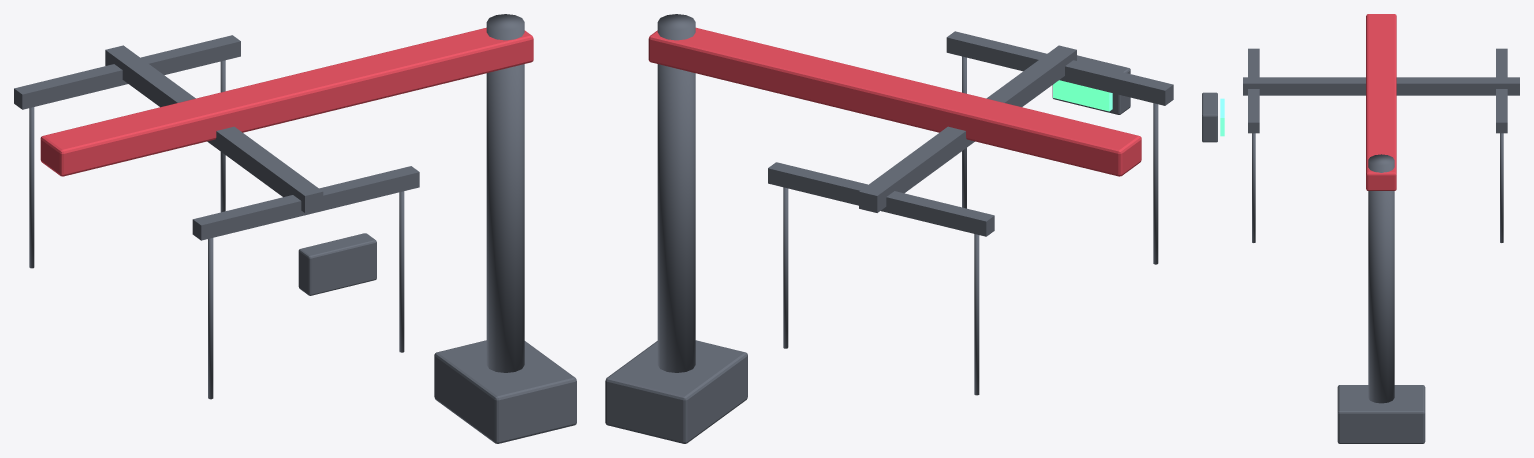
The model's file is pit_boom.glb.
3 views of the same model, side by side, from view 1: azimuth 30°, elevation 25°; view 2: azimuth 150°, elevation 25°; view 3: azimuth 270°, elevation 25° (orthographic). The views are drawn at different scales.
Visible parts, largest first — view 1: BoomArm, BoomMast, BoomPlinth, CrossSpine, SubArmF, SubArmR, LightHousing, AirHose_-1.1_1.6, AirHose_1.1_-1.8, AirHose_-1.1_-1.8, AirHose_1.1_1.6; view 2: BoomArm, BoomMast, BoomPlinth, CrossSpine, SubArmR, SubArmF, PitStatusLed, AirHose_1.1_1.6, AirHose_-1.1_1.6, AirHose_-1.1_-1.8, LightHousing; view 3: BoomMast, BoomArm, BoomPlinth, CrossSpine, SubArmF, SubArmR, LightHousing, AirHose_1.1_1.6, AirHose_1.1_-1.8.
Boxes of the visible parts, x1,y1,x2,y2 form: BoomArm: (40, 27, 533, 176); BoomMast: (486, 14, 524, 372); BoomPlinth: (434, 340, 576, 443); CrossSpine: (105, 45, 323, 212); SubArmF: (192, 166, 419, 240); SubArmR: (14, 35, 240, 109); LightHousing: (298, 233, 376, 295); AirHose_-1.1_1.6: (29, 107, 34, 268); AirHose_1.1_-1.8: (399, 191, 404, 352); AirHose_-1.1_-1.8: (208, 238, 213, 399); AirHose_1.1_1.6: (220, 60, 225, 212); BoomArm: (648, 27, 1141, 176); BoomMast: (657, 14, 695, 372); BoomPlinth: (605, 340, 747, 443); CrossSpine: (859, 45, 1076, 212); SubArmR: (768, 162, 994, 236); SubArmF: (946, 31, 1173, 105); PitStatusLed: (1053, 80, 1112, 111); AirHose_1.1_1.6: (783, 187, 788, 348); AirHose_-1.1_1.6: (974, 234, 979, 395); AirHose_-1.1_-1.8: (1153, 103, 1158, 264); LightHousing: (1052, 55, 1130, 114); BoomMast: (1368, 154, 1394, 403); BoomArm: (1366, 14, 1396, 190); BoomPlinth: (1337, 385, 1425, 443); CrossSpine: (1243, 77, 1519, 95); SubArmF: (1248, 48, 1259, 133); SubArmR: (1496, 48, 1507, 133); LightHousing: (1202, 92, 1217, 142); AirHose_1.1_1.6: (1500, 133, 1503, 242); AirHose_1.1_-1.8: (1252, 133, 1255, 242).
Bounding box in the file's own units: 5.45 × 4.1 × 4.36.
